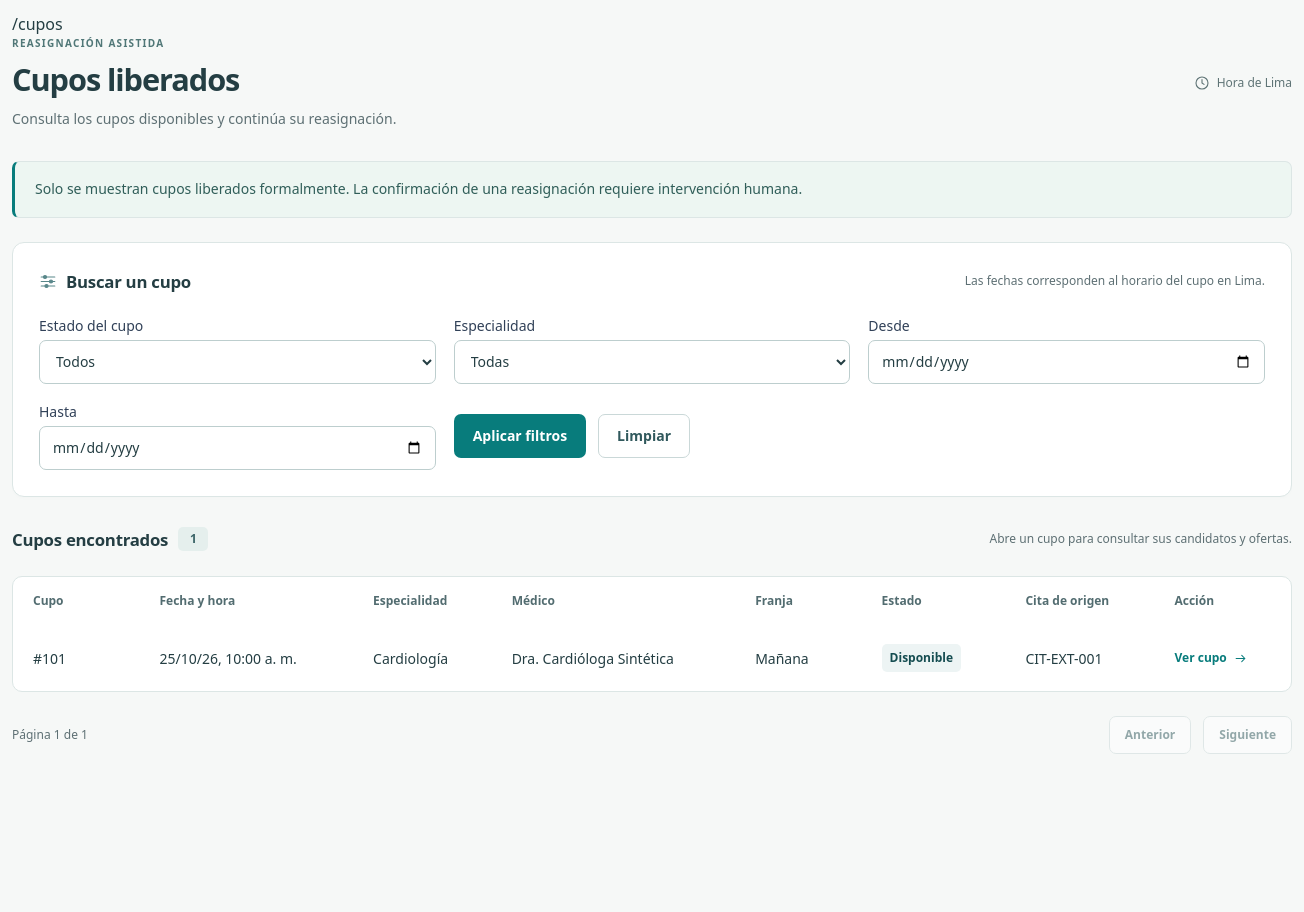
Test: Filtros y paginación de cupos (RF-073) › valida que la fecha desde no sea posterior a la fecha hasta
Expected: the text "#101" is shown, [13, 625, 140, 691]
Type "2026-10-30" into the date field labelled "Desde" at (1067, 362), box [868, 340, 1265, 384]
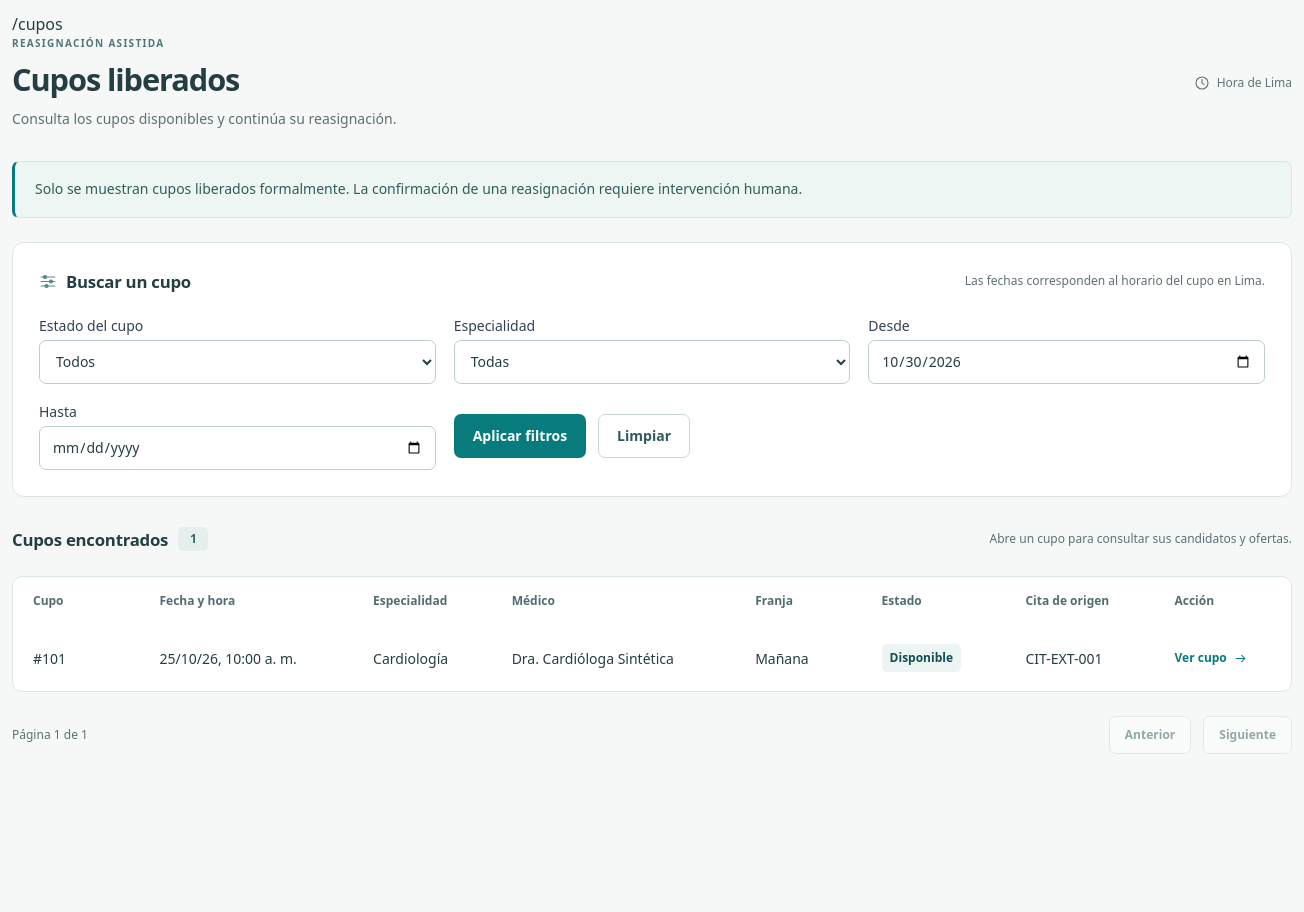
Type "2026-10-20" into the date field labelled "Hasta" at (237, 448), box [39, 426, 436, 470]
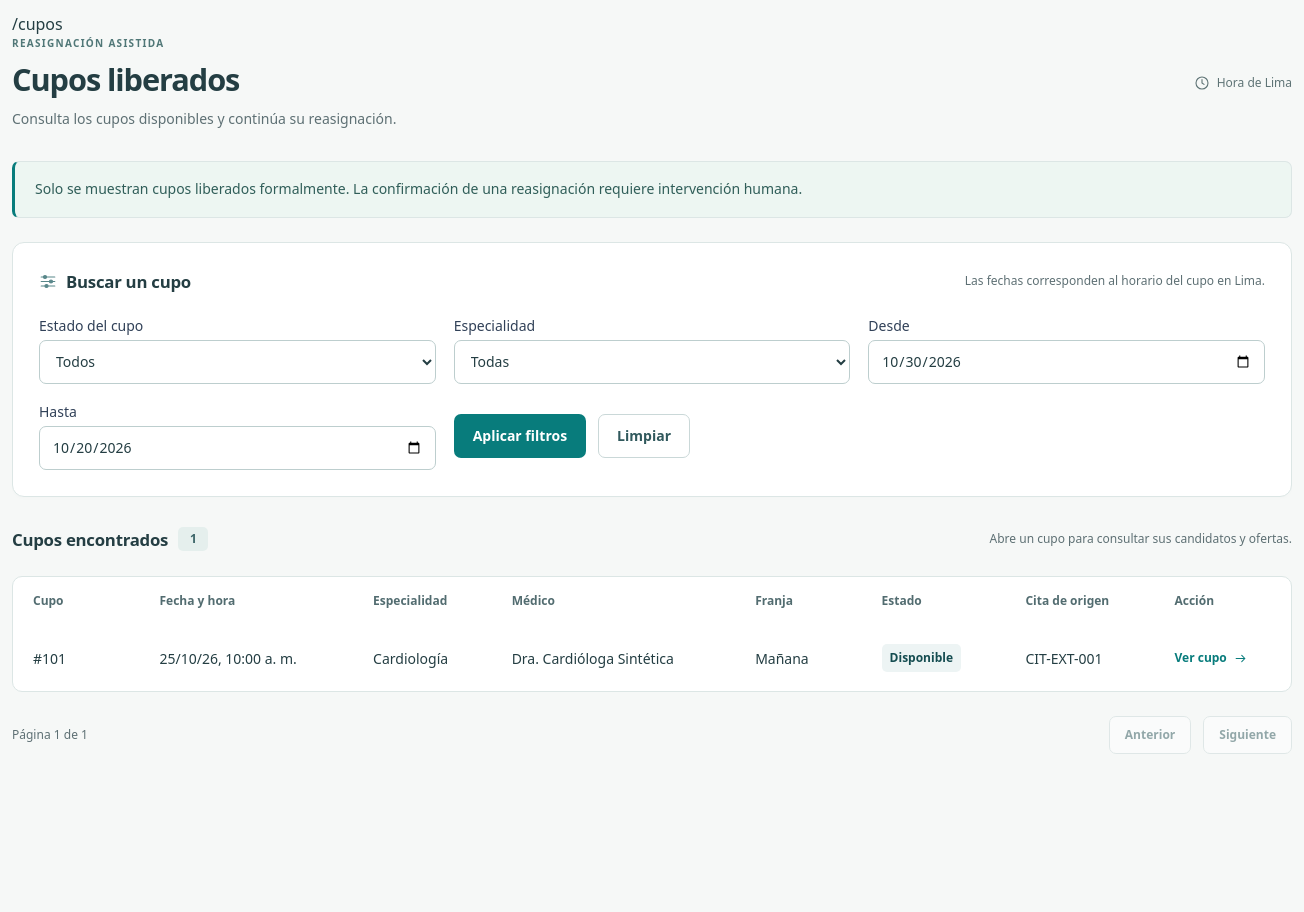
Click the button "Aplicar filtros" at (520, 436), box [454, 414, 586, 458]
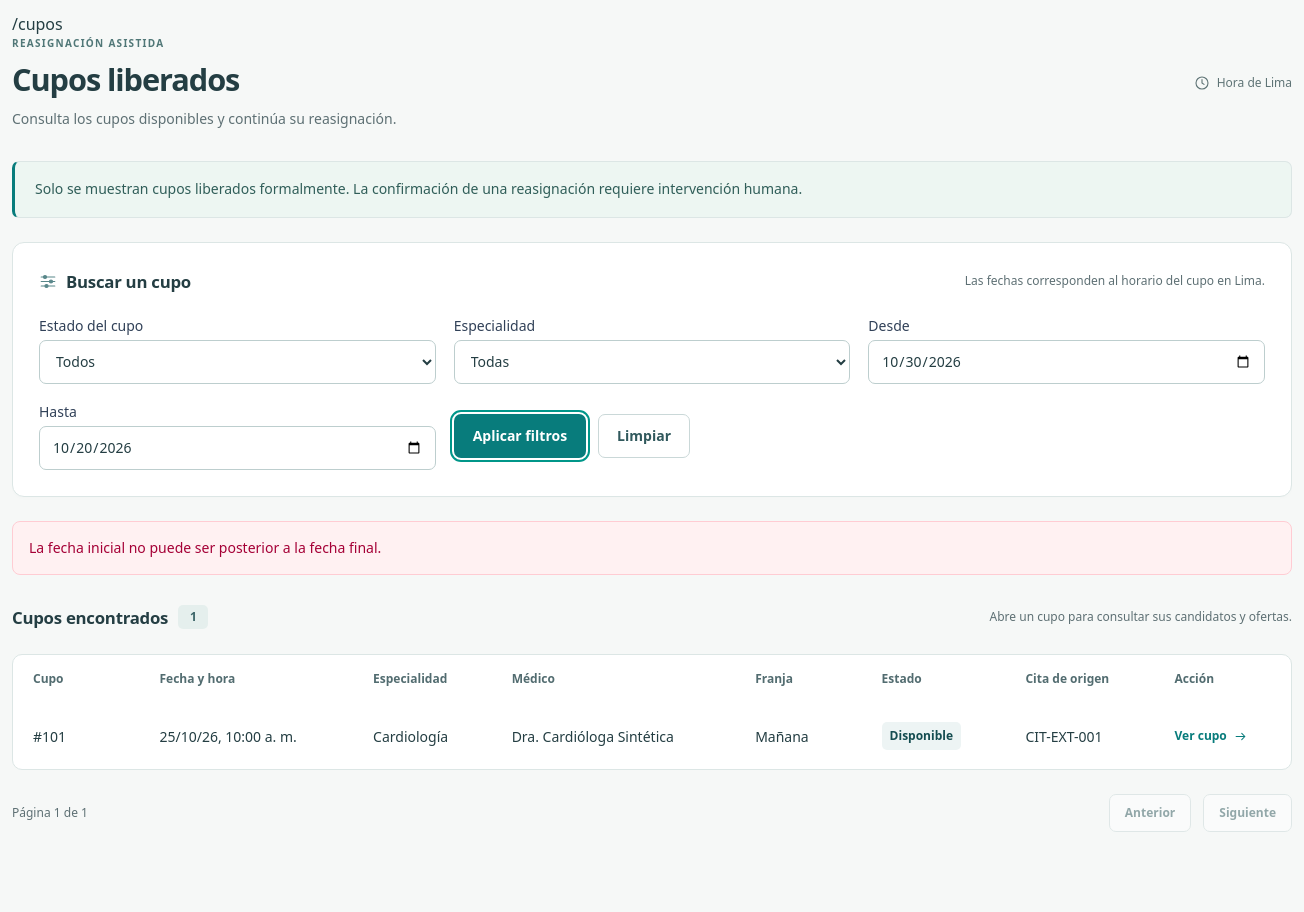
Expected: the text "La fecha inicial no puede ser posterior a la fecha final." is shown, [12, 521, 1292, 575]
